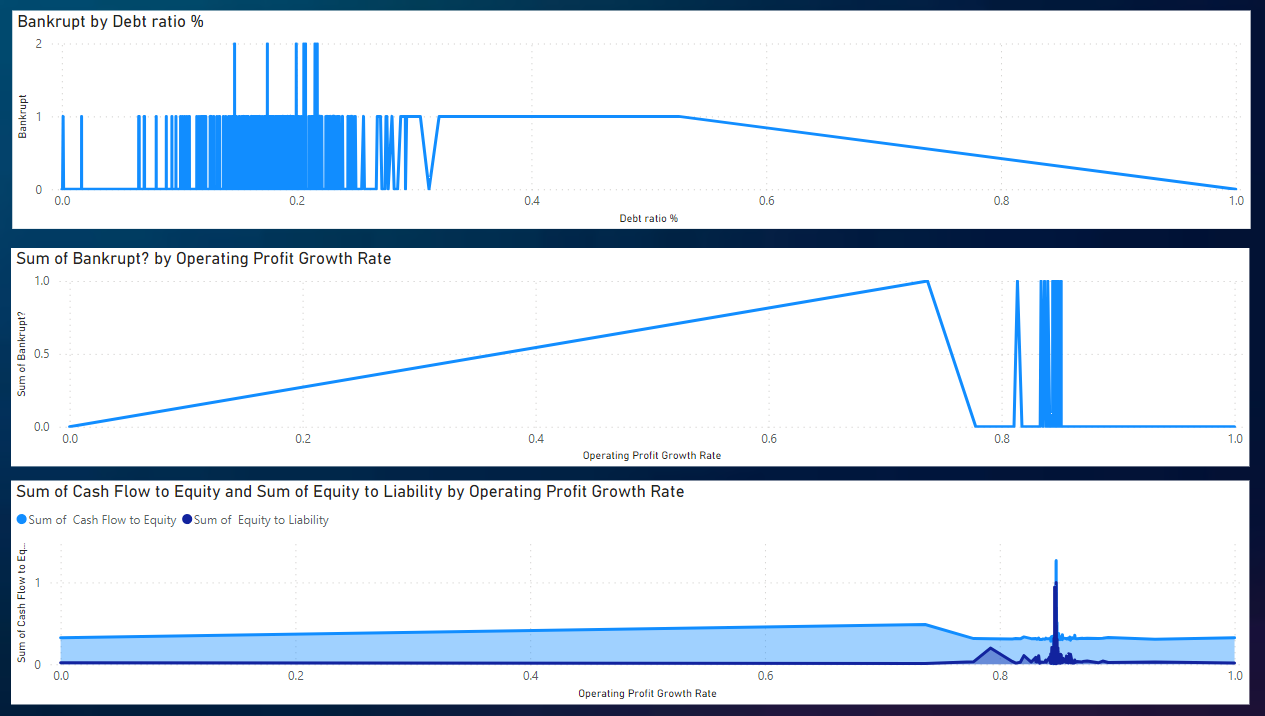

What the dashboard file says about the page in this screenshot:
{"tool":"powerbi","page":{"name":"Analysis","canvas":[1280,720],"ordinal":1},"visuals":[{"type":"lineChart","fields":{"Category":["data. Debt ratio %"],"Y":["Sum(data.Bankrupt?)"]},"box":[21.2,12.5,1238.8,218.8],"z":0},{"type":"lineChart","fields":{"Y":["Sum(data.Bankrupt?)"],"Category":["data. Operating Profit Growth Rate"]},"box":[20,250,1238.8,218.8],"z":1000},{"type":"areaChart","fields":{"Category":["data. Operating Profit Growth Rate"],"Y":["Sum(data. Cash Flow to Equity)","Sum(data. Equity to Liability)"]},"box":[20,482.5,1238.8,223.8],"z":2000}]}

Visuals, with their boxes in screenshot pixels (x1, y1, x2, y2), scaled from the page's 1280x720 canvas onto the 1265x716 screenshot:
lineChart - data. Debt ratio % x Sum(data.Bankrupt?): <region>21, 12, 1245, 230</region>
lineChart - Sum(data.Bankrupt?) x data. Operating Profit Growth Rate: <region>20, 249, 1244, 466</region>
areaChart - data. Operating Profit Growth Rate x Sum(data. Cash Flow to Equity): <region>20, 480, 1244, 702</region>
